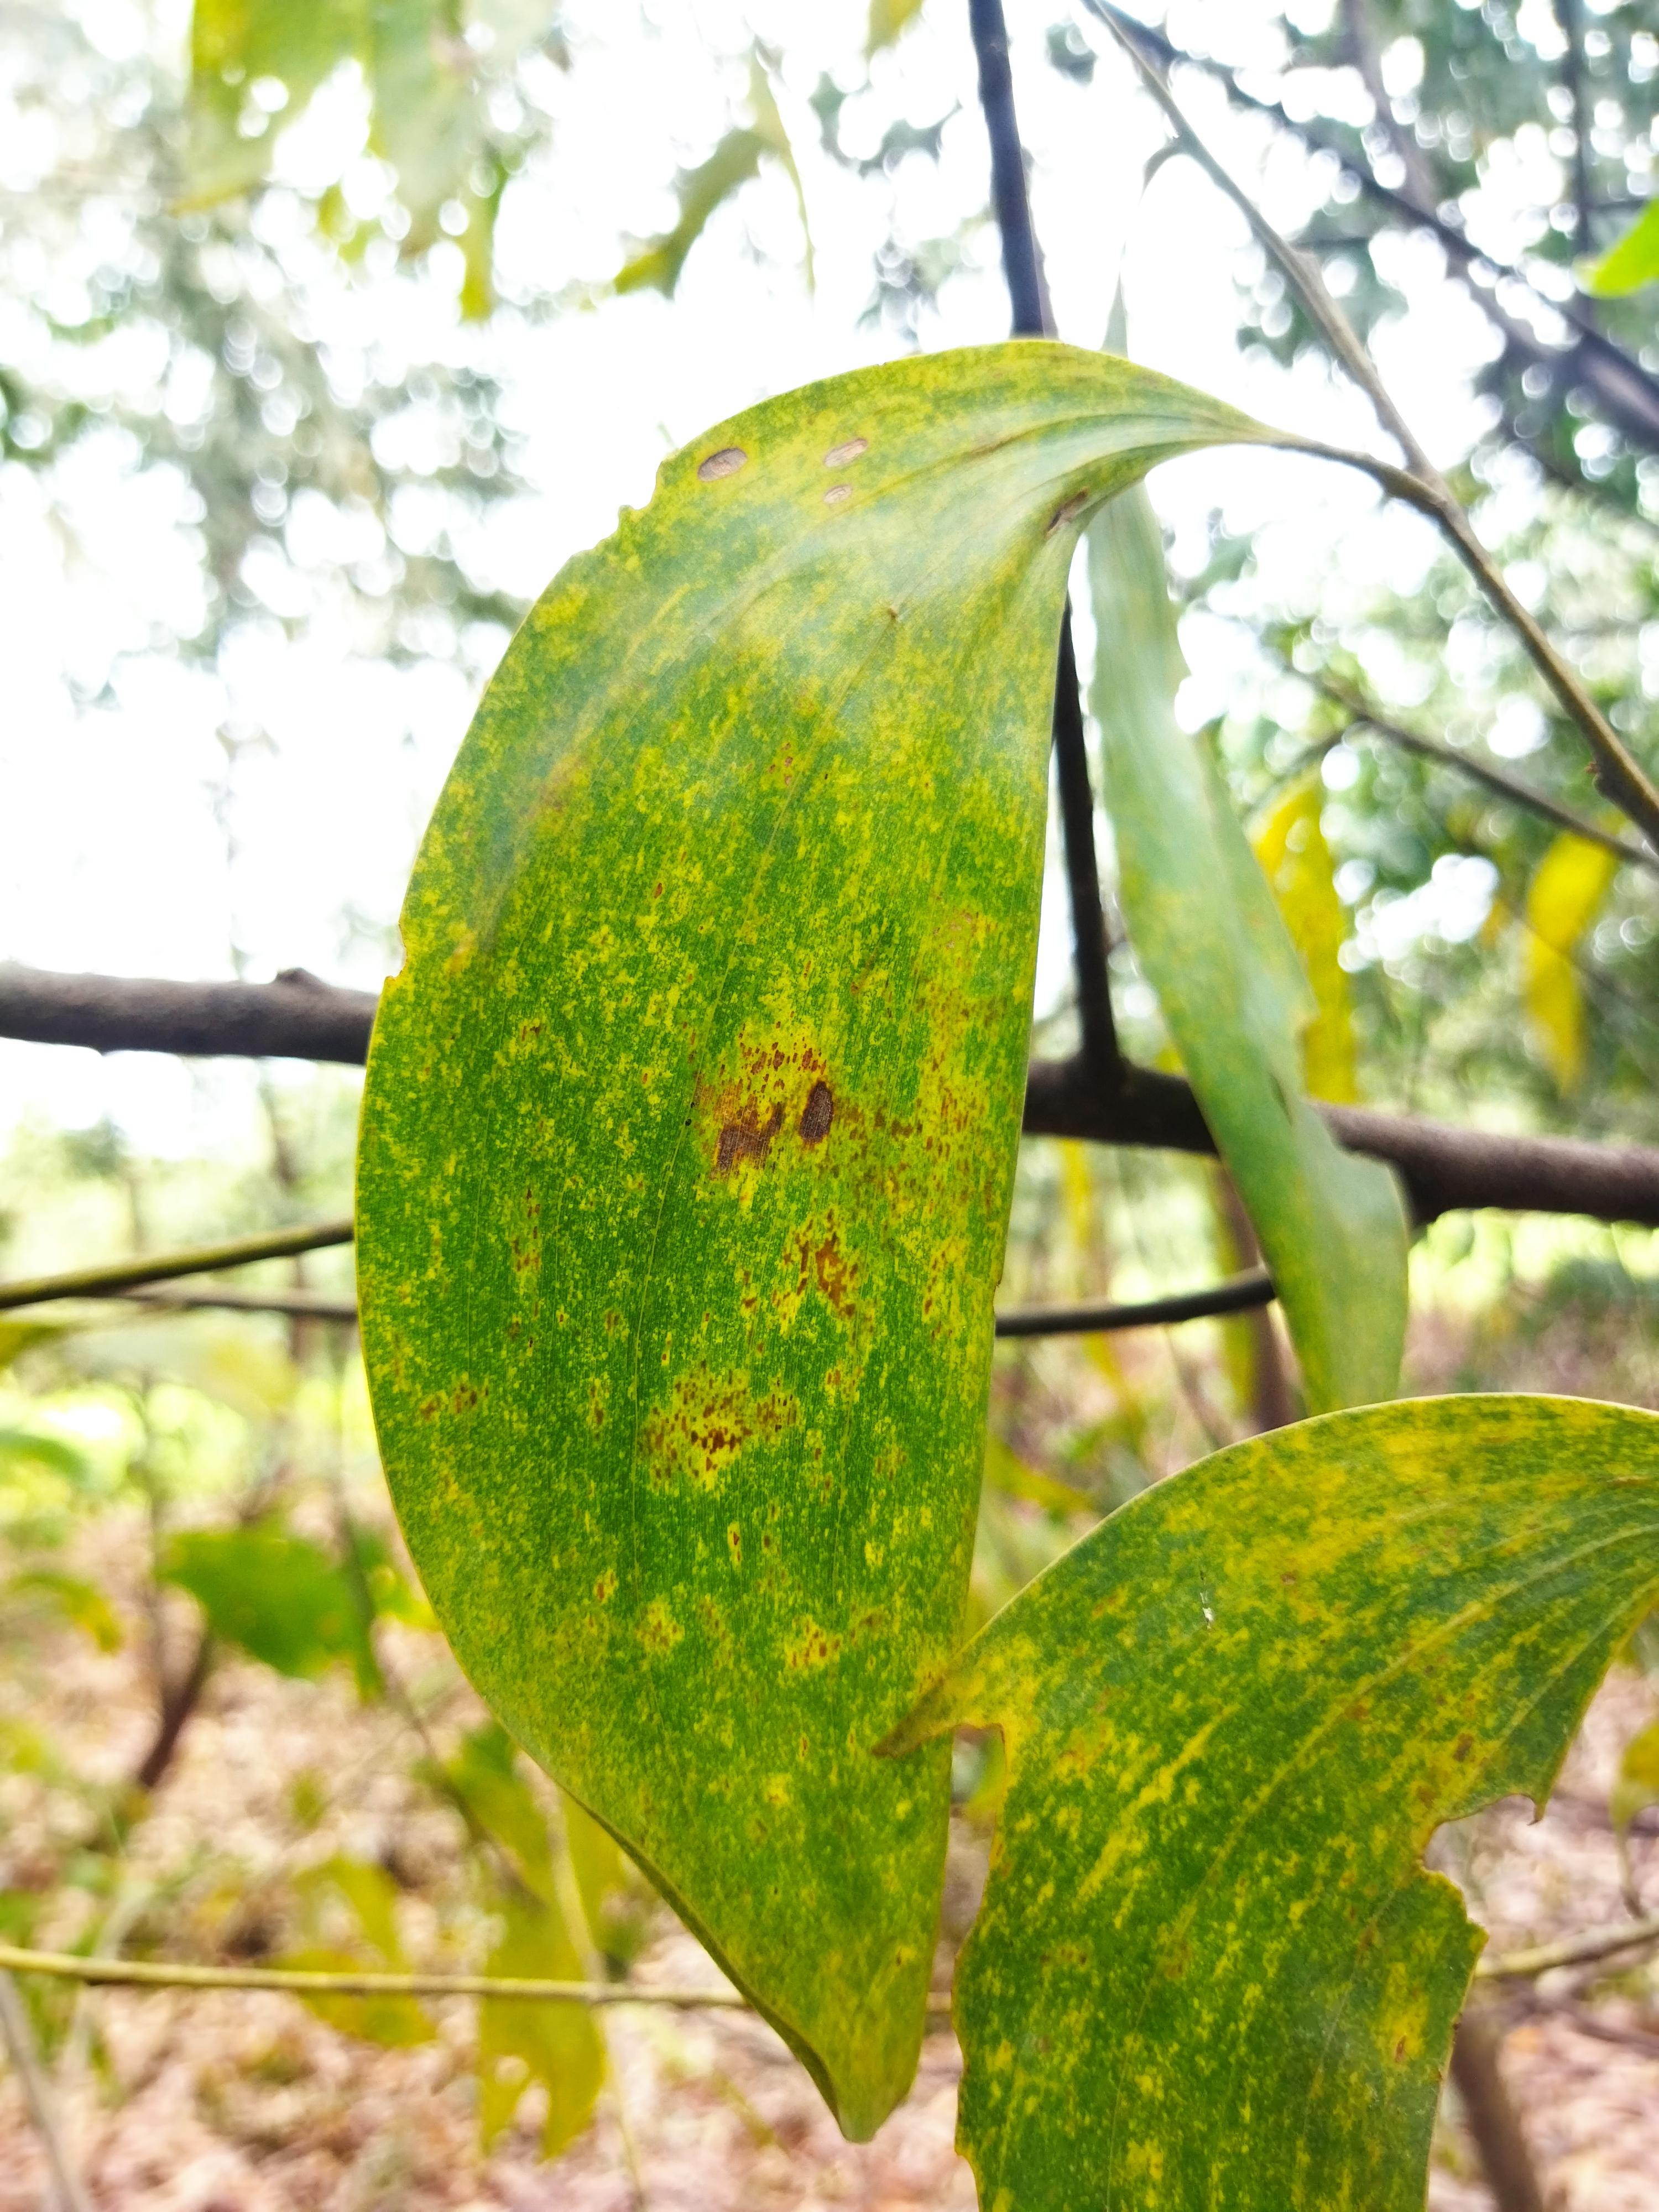Xanthomonas: (554, 620, 1009, 1660)
